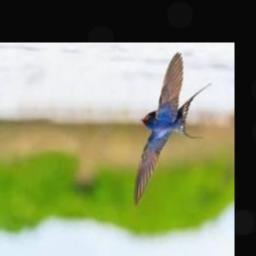Swallow: (134, 52, 211, 208)
